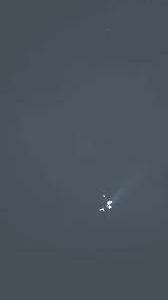Plane: (90, 185, 123, 224)
